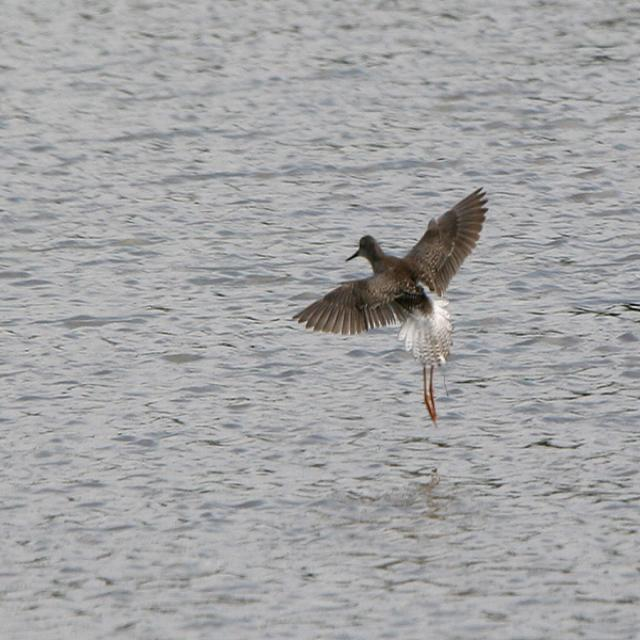bird: (294, 183, 492, 429)
